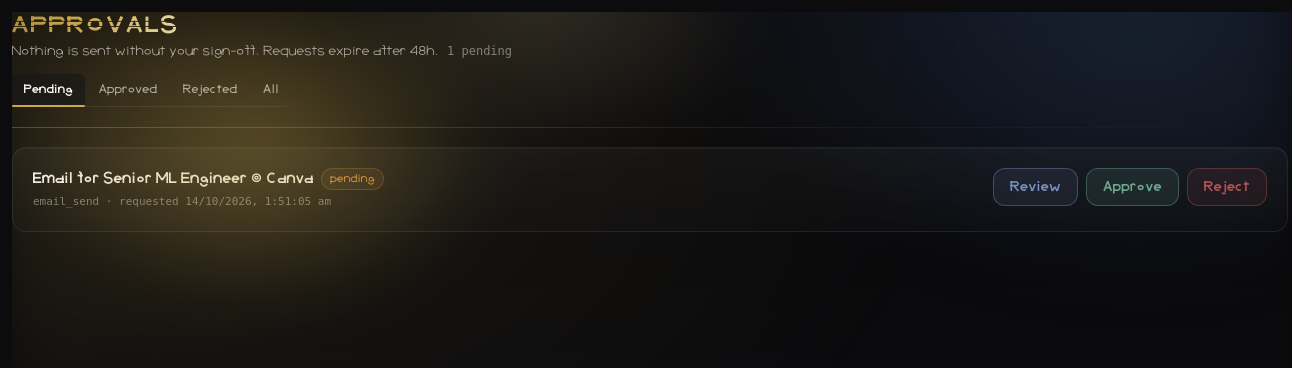
it: execute wiring for email_send approvals (MV-approval-modal-008) › surfaces an honest error when the approval succeeds but the email send (execute) fails
Click the button with test id "approve-btn" at (1133, 187), box [1086, 168, 1179, 206]
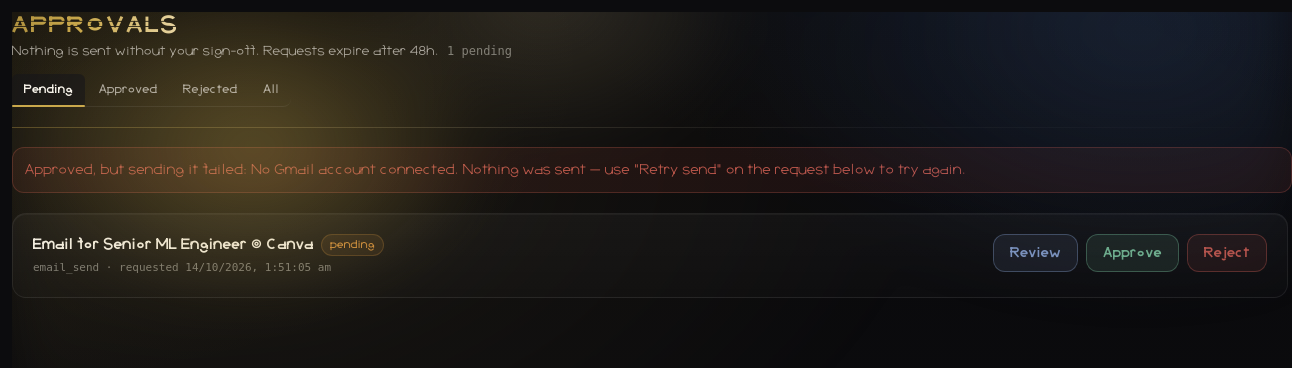
Result: the message shows "Approved" at [25, 163, 966, 177]
Result: the message shows "Gmail" at [25, 163, 966, 177]
